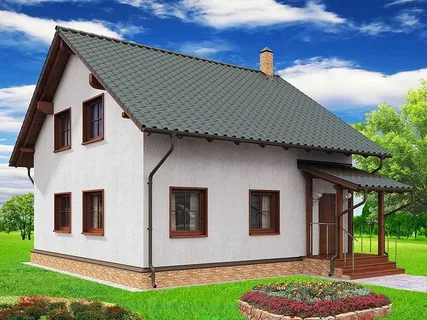private_hause: (27, 42, 399, 278)
